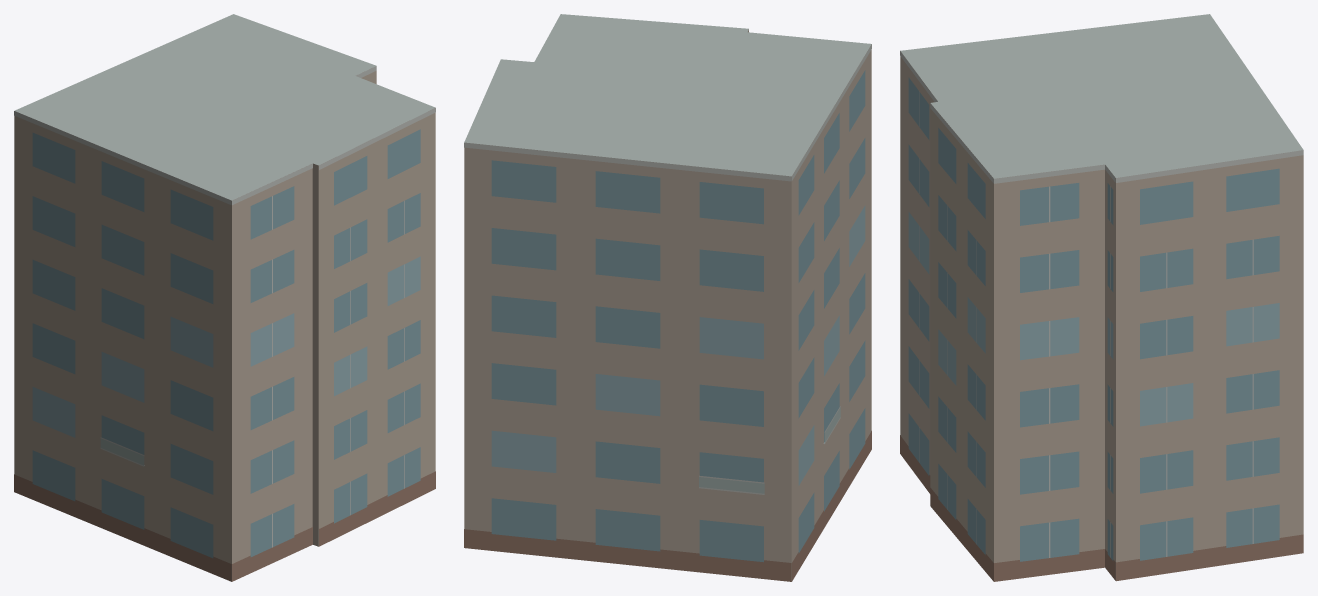
The model's file is survey-upis-32936256.glb.
3 views of the same model, side by side, from view 1: azimuth 30°, elevation 25°; view 2: azimuth 150°, elevation 25°; view 3: azimuth 270°, elevation 25° (orthographic). The views are drawn at different scales.
Visible parts, largest first — view 1: survey-upis-32936256.tmp; view 2: survey-upis-32936256.tmp; view 3: survey-upis-32936256.tmp.
Boxes of the visible parts, bbox=[...] form: survey-upis-32936256.tmp: bbox=[14, 14, 435, 581]; survey-upis-32936256.tmp: bbox=[464, 14, 871, 581]; survey-upis-32936256.tmp: bbox=[900, 14, 1303, 581].
Size of the model in its own units: 17.06 by 19.45 by 17.65.
